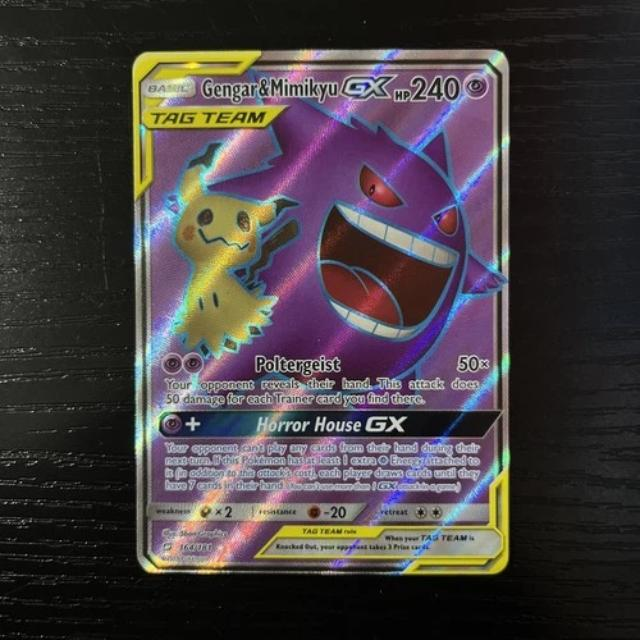Card: (126, 45, 514, 580)
Name: (194, 71, 405, 102)
